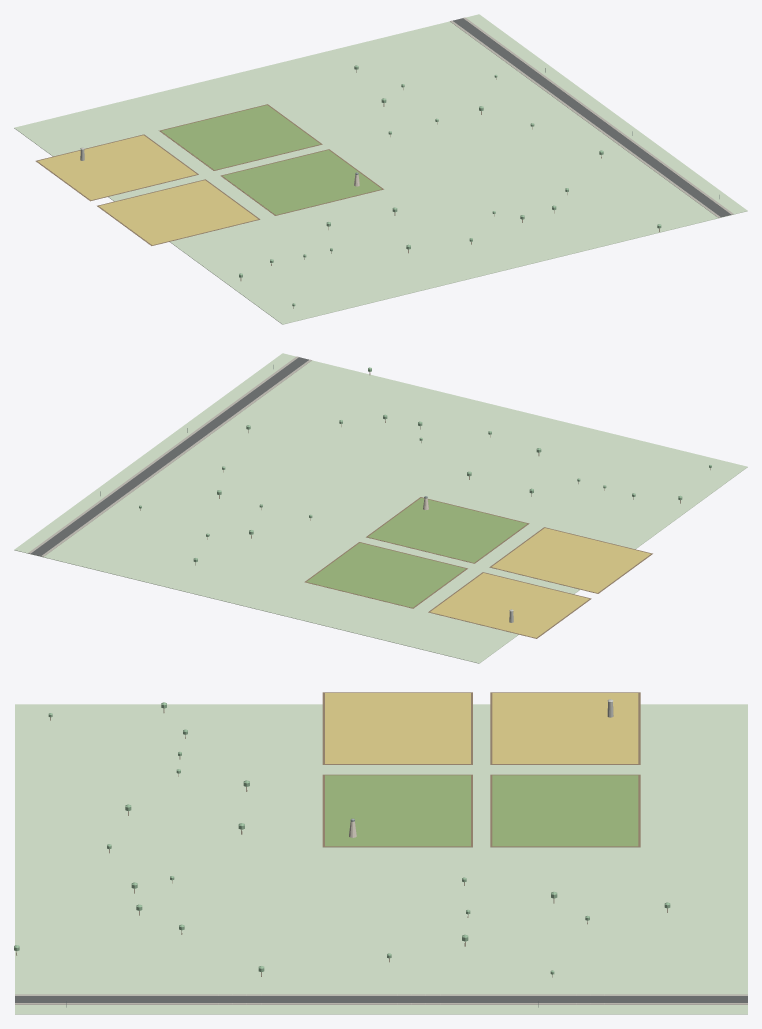
Rendered from chunk_5_6_low.glb.
3 renders of one model, top to bottom at view 1: azimuth 30°, elevation 25°; view 2: azimuth 150°, elevation 25°; view 3: azimuth 270°, elevation 25°, orthographic. The views are drawn at different scales.
Parts seen in each view (by area): view 1: city_grass, city_field_wheat, city_field_corn, city_world_asphalt, city_field_soil, city_world_sidewalk, city_curb; view 2: city_grass, city_field_wheat, city_field_corn, city_world_asphalt, city_field_soil, city_world_sidewalk, city_curb; view 3: city_grass, city_field_corn, city_field_wheat, city_world_asphalt, city_field_soil, city_world_sidewalk, city_curb, city_foliage_dark.
Boxes of the visible parts, box(x1,y1,x2,y2) form: city_grass: box(14, 14, 747, 324); city_field_wheat: box(37, 135, 257, 245); city_field_corn: box(161, 105, 381, 214); city_world_asphalt: box(453, 18, 731, 217); city_field_soil: box(35, 104, 383, 245); city_world_sidewalk: box(450, 17, 733, 217); city_curb: box(453, 18, 731, 216); city_grass: box(14, 353, 747, 663); city_field_wheat: box(430, 528, 650, 637); city_field_corn: box(306, 498, 527, 607); city_world_asphalt: box(30, 357, 308, 556); city_field_soil: box(304, 497, 652, 638); city_world_sidewalk: box(28, 356, 311, 556); city_curb: box(30, 357, 308, 555); city_grass: box(15, 704, 747, 1014); city_field_corn: box(325, 775, 638, 846); city_field_wheat: box(325, 693, 638, 763); city_world_asphalt: box(15, 996, 747, 1002); city_field_soil: box(322, 692, 640, 847); city_world_sidewalk: box(15, 994, 747, 1004); city_curb: box(15, 994, 747, 1004); city_foliage_dark: box(14, 702, 670, 974).
Size of the model in its own units: 532 by 13.98 by 513.
